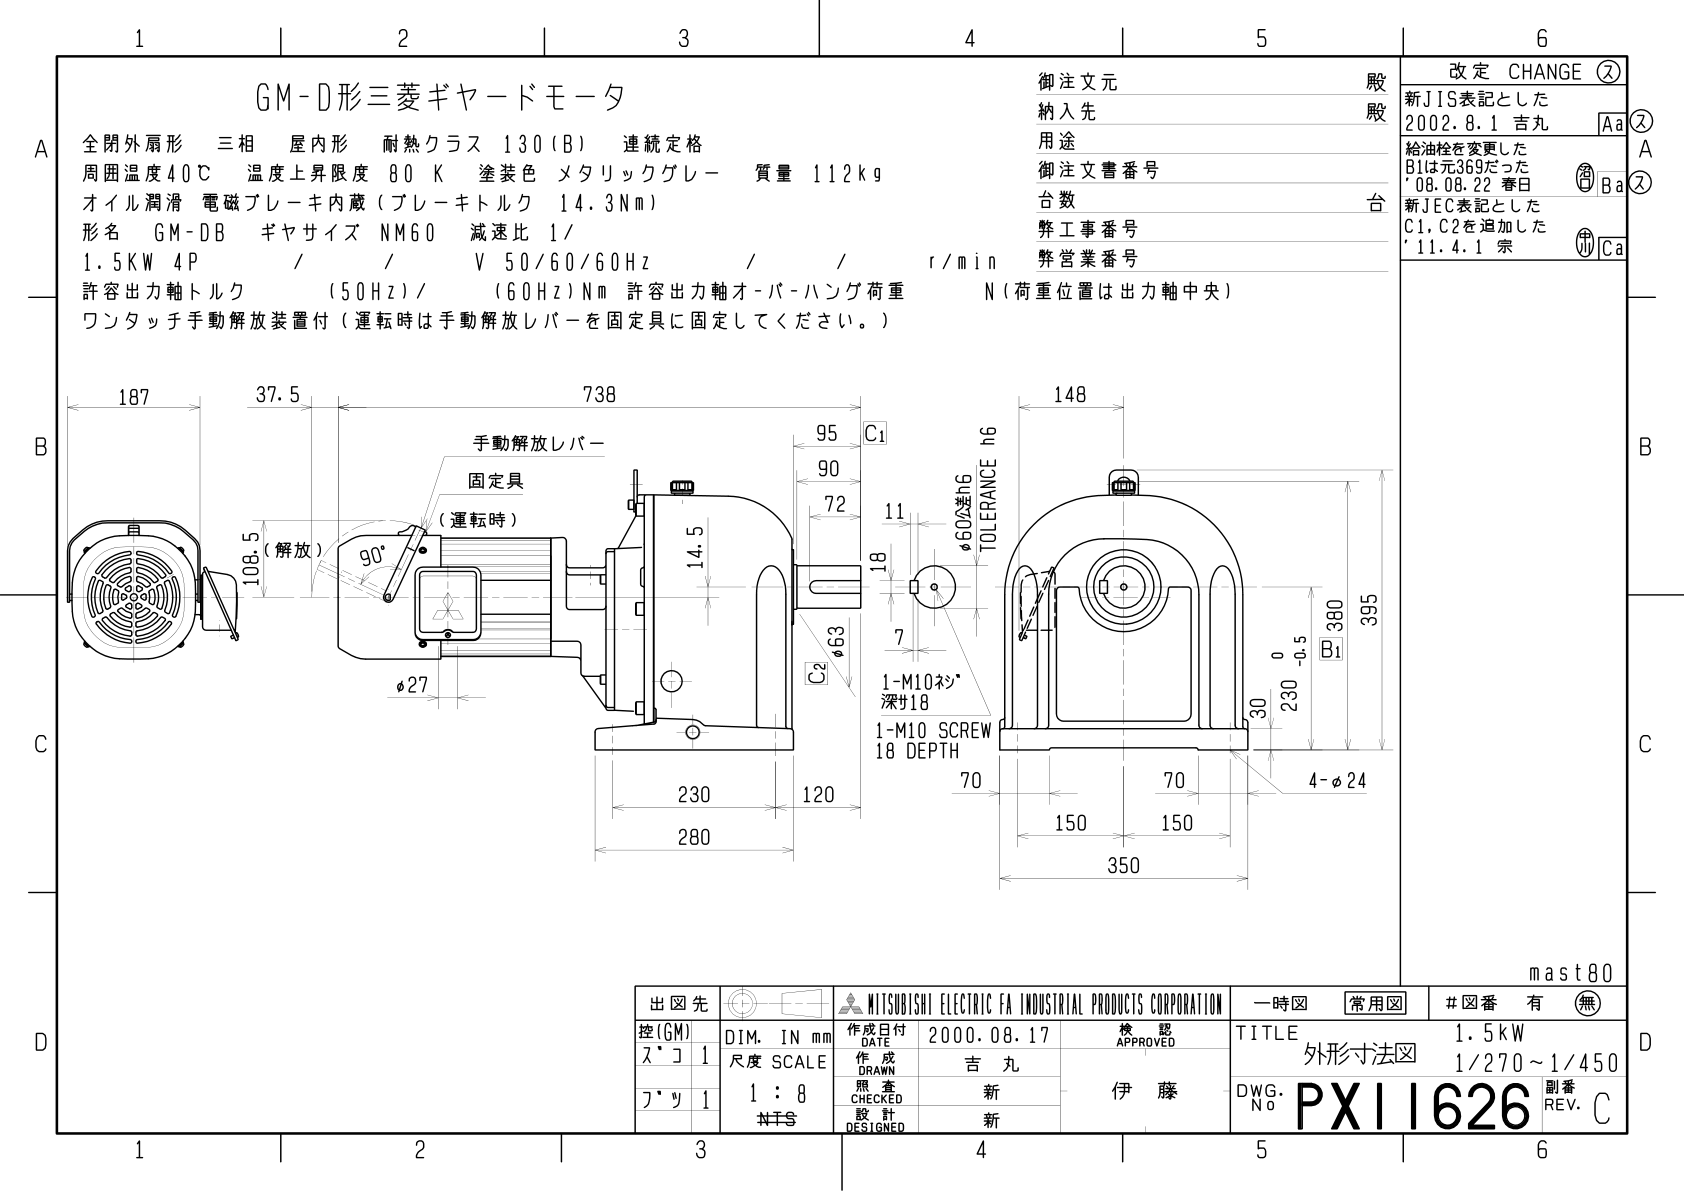GM_D_手動解放ブレーキ＿三相_脚: (61, 360, 1393, 924)
